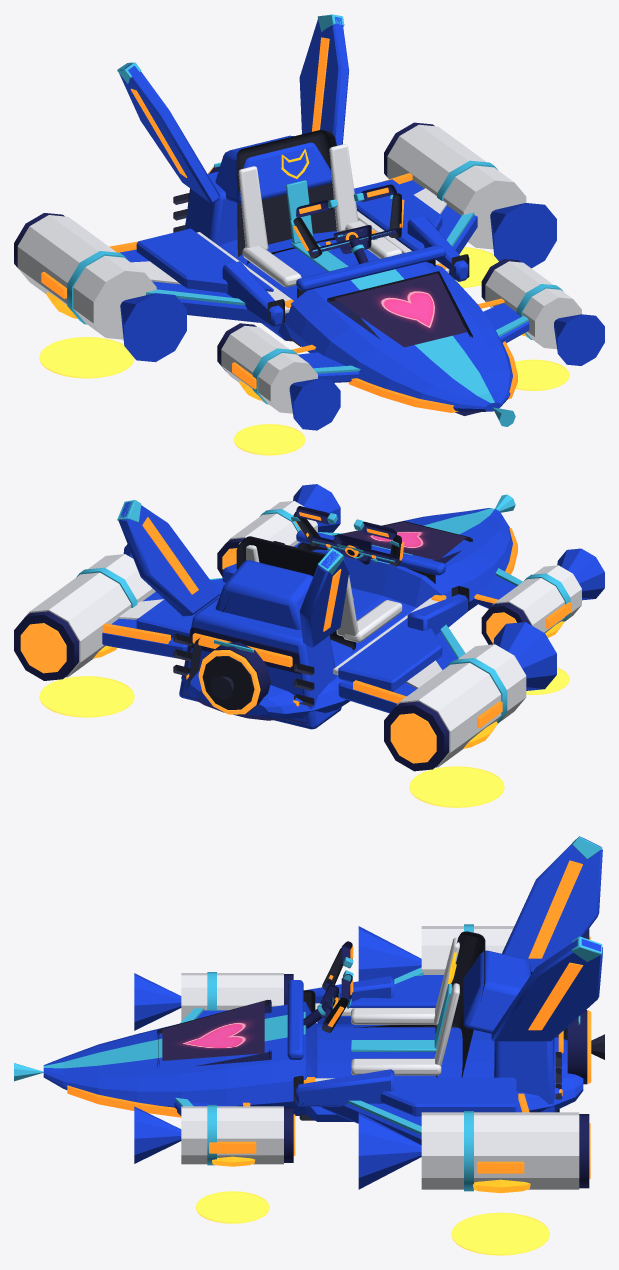
File: hoverkart.glb
3 views of the same model, one above another, from view 1: azimuth 30°, elevation 25°; view 2: azimuth 150°, elevation 25°; view 3: azimuth 270°, elevation 25° (orthographic). The views are drawn at different scales.
Visible parts, largest first — view 1: Hull, Nacelle, Nacelle.002, Display_Screen, Nacelle.001, Fin.001, Seat_Back, Wing_Root, Nacelle.003, Rear_Hump, Nacelle_Nose, Fin (+26 smaller); view 2: Hull, Nacelle, Nacelle.002, Rear_Deck, Fin.001, Rear_Hump, Wing_Root, Thruster_Glow, Thruster_Glow.002, Nacelle.001, Fin, Nacelle_Nose (+34 smaller); view 3: Hull, Nacelle.002, Fin, Fin.001, Nacelle.003, Wing_Root.001, Display_Screen, Rear_Hump, Thruster_Glow.002, Nacelle.001, Rear_Deck, Nacelle_Nose.002 (+27 smaller).
Boxes of the visible parts, left/top/right/bottom form: Hull: left=219, top=231, right=512, bottom=412; Nacelle: left=17, top=215, right=156, bottom=339; Nacelle.002: left=387, top=124, right=526, bottom=249; Display_Screen: left=334, top=273, right=466, bottom=347; Nacelle.001: left=221, top=325, right=317, bottom=413; Fin.001: left=299, top=17, right=349, bottom=145; Seat_Back: left=236, top=130, right=336, bottom=257; Wing_Root: left=136, top=228, right=273, bottom=292; Nacelle.003: left=485, top=261, right=581, bottom=349; Rear_Hump: left=215, top=135, right=332, bottom=203; Nacelle_Nose: left=120, top=293, right=186, bottom=362; Fin: left=119, top=63, right=219, bottom=203; Hull: left=181, top=508, right=512, bottom=720; Nacelle: left=396, top=644, right=526, bottom=767; Nacelle.002: left=26, top=554, right=155, bottom=677; Rear_Deck: left=179, top=598, right=341, bottom=729; Fin.001: left=118, top=501, right=219, bottom=616; Rear_Hump: left=215, top=560, right=312, bottom=629; Wing_Root: left=338, top=618, right=442, bottom=691; Thruster_Glow: left=409, top=766, right=504, bottom=807; Thruster_Glow.002: left=39, top=676, right=134, bottom=717; Nacelle.001: left=492, top=565, right=581, bottom=632; Fin: left=299, top=550, right=348, bottom=647; Nacelle_Nose: left=493, top=622, right=556, bottom=690; Hull: left=43, top=1001, right=583, bottom=1121; Nacelle.002: left=421, top=1112, right=579, bottom=1189; Fin: left=502, top=837, right=602, bottom=971; Fin.001: left=491, top=939, right=602, bottom=1041; Nacelle.003: left=181, top=1106, right=283, bottom=1164; Wing_Root.001: left=380, top=1077, right=516, bottom=1116; Display_Screen: left=162, top=1001, right=264, bottom=1060; Rear_Hump: left=463, top=950, right=530, bottom=1033; Thruster_Glow.002: left=451, top=1212, right=549, bottom=1255; Nacelle.001: left=181, top=973, right=283, bottom=1021; Rear_Deck: left=494, top=1039, right=555, bottom=1112; Nacelle_Nose.002: left=358, top=1113, right=421, bottom=1189.
Size of the model in its own units: 2.74 by 1.43 by 3.
Materials: 13 (2 with a texture image).
